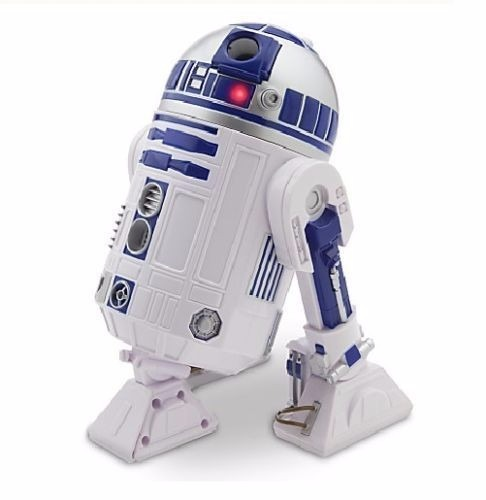r2d2: (92, 22, 414, 463)
